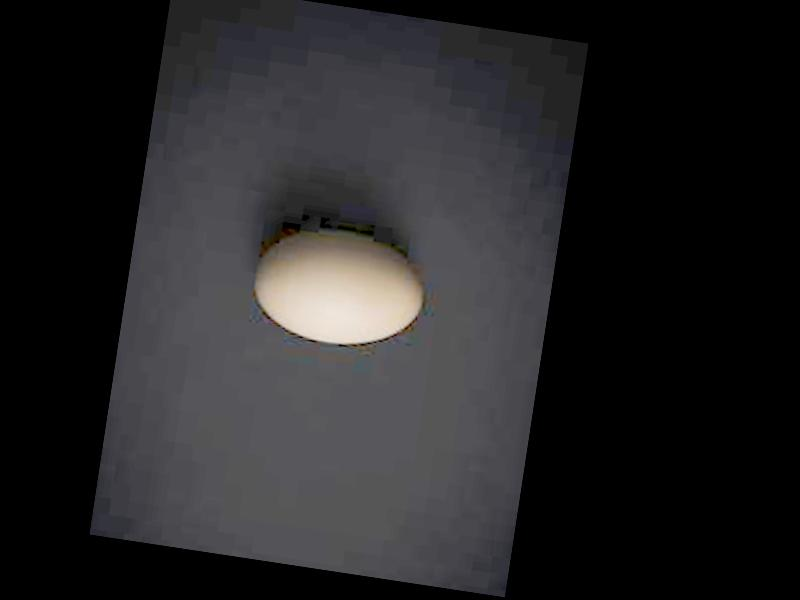Eggs: (245, 223, 434, 355)
